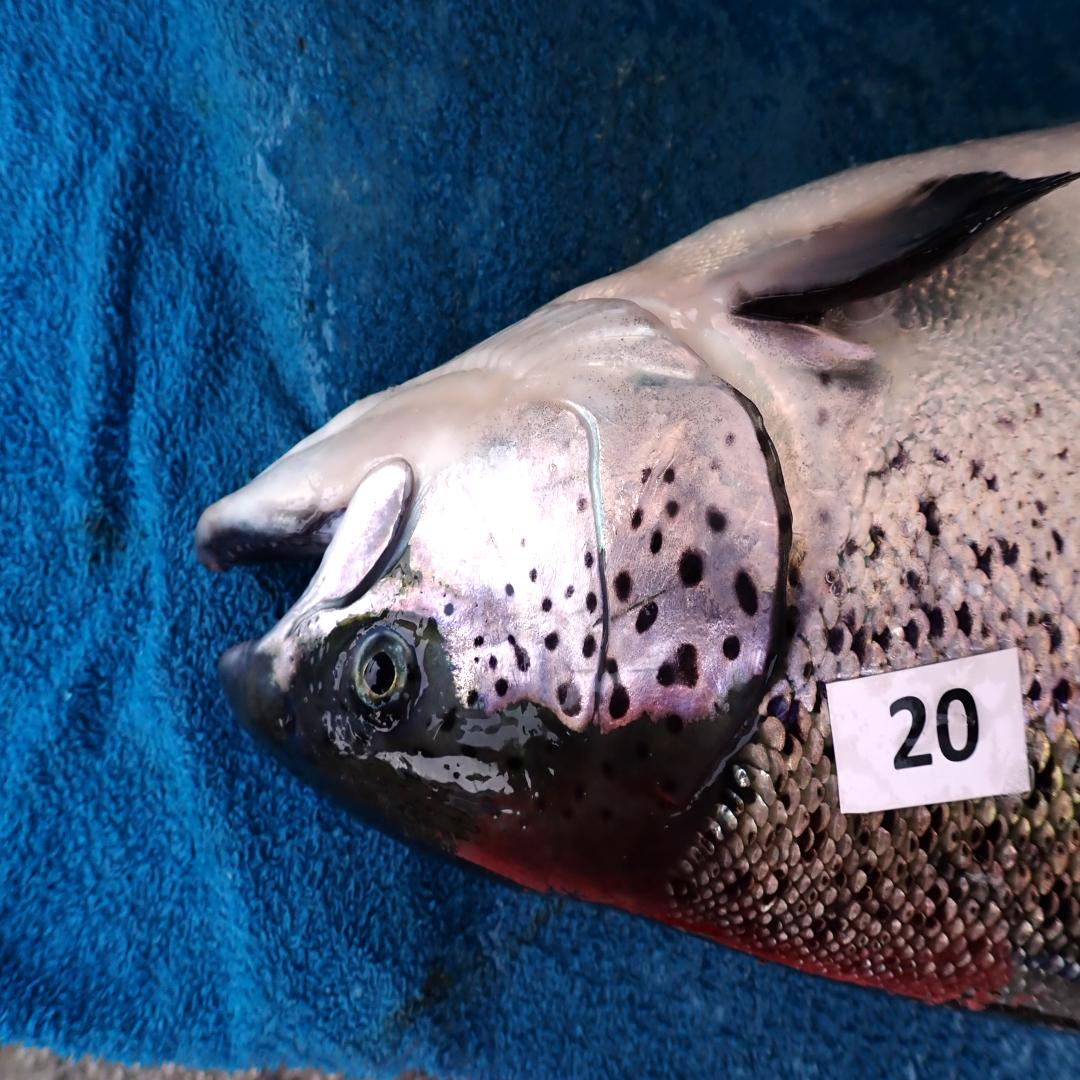roi: (415, 283, 791, 732)
